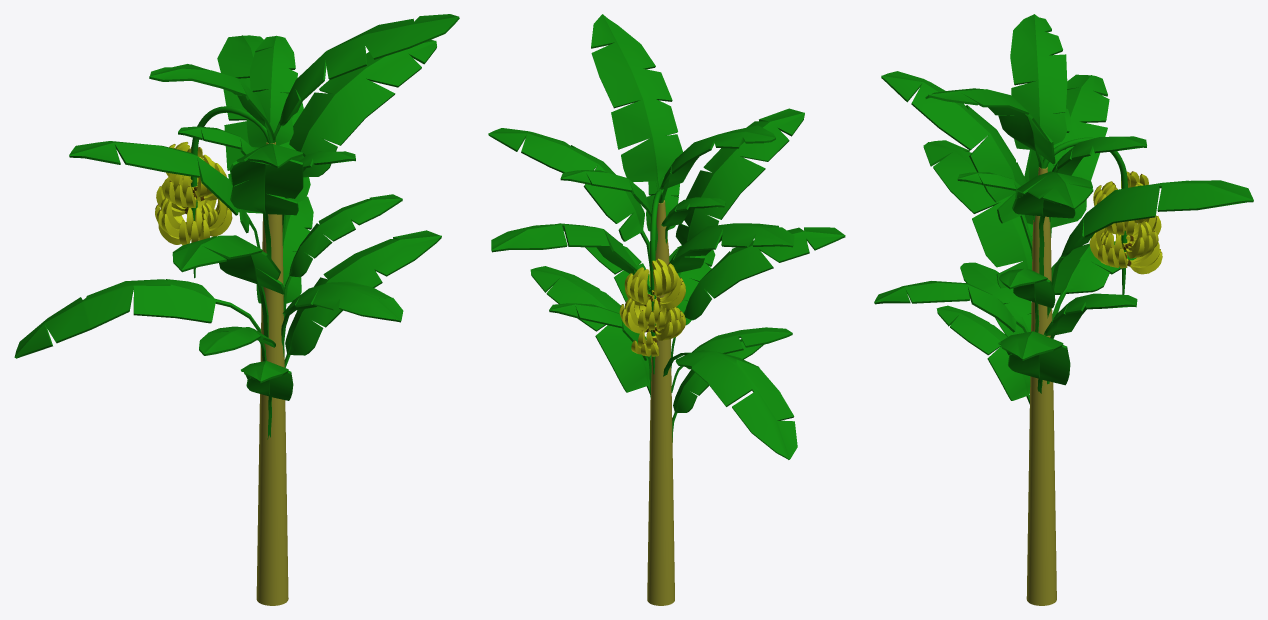
Rendered from BananaTreeBanana.fbx.
The picture shows the model from 3 angles, left to right: view 1: azimuth 30°, elevation 25°; view 2: azimuth 150°, elevation 25°; view 3: azimuth 270°, elevation 25°; orthographic projection. The views are drawn at different scales.
Parts seen in each view (by area): view 1: Leaves, Trunk, Banana, Branch; view 2: Leaves, Trunk, Banana, Branch; view 3: Leaves, Trunk, Banana, Branch.
Boxes of the visible parts, x1,y1,x2,y2 form: Leaves: (14, 14, 459, 439); Trunk: (256, 142, 288, 605); Banana: (155, 142, 232, 245); Branch: (190, 106, 269, 278); Leaves: (488, 14, 845, 459); Trunk: (647, 200, 674, 605); Banana: (619, 258, 685, 356); Branch: (650, 190, 663, 374); Leaves: (874, 14, 1253, 404); Trunk: (1026, 167, 1056, 605); Banana: (1089, 171, 1162, 274); Branch: (1043, 137, 1127, 294).
Size of the model in its own units: 269 by 399 by 244.
